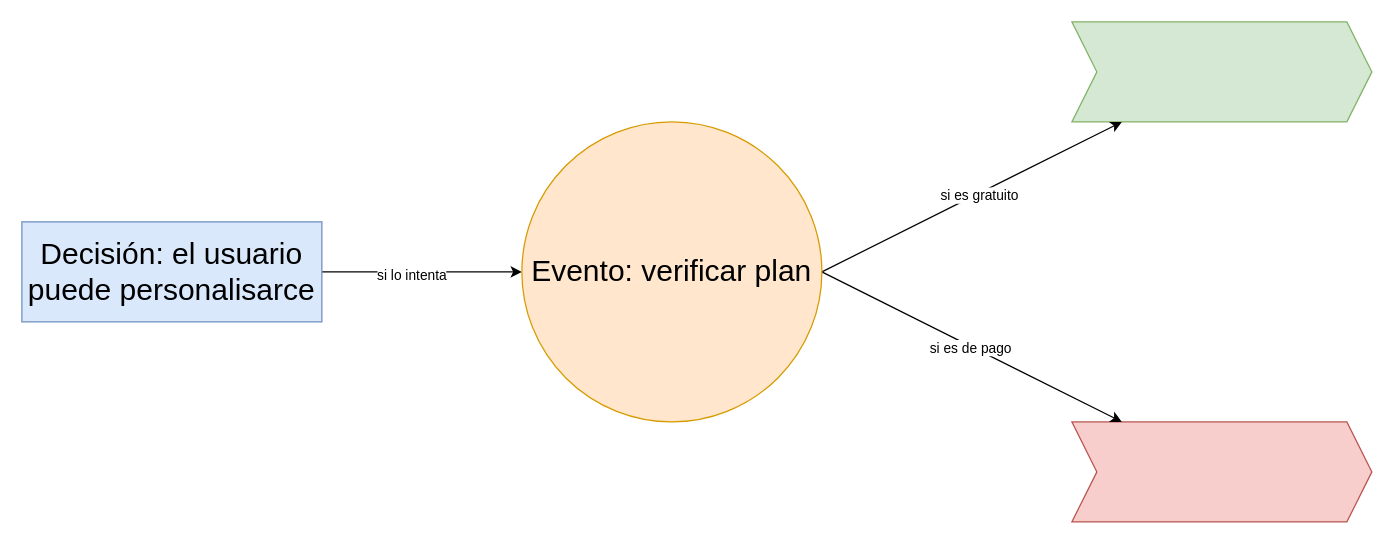
Image size: 1394x544. Some labels were removed from this diagram. The box of each missing label's shape, as (x1, y1, x2, y2) in pixels:
Regla 22: aceptar: (1071, 21, 1372, 122)
Regla 23: rechazar: (1071, 421, 1372, 522)
